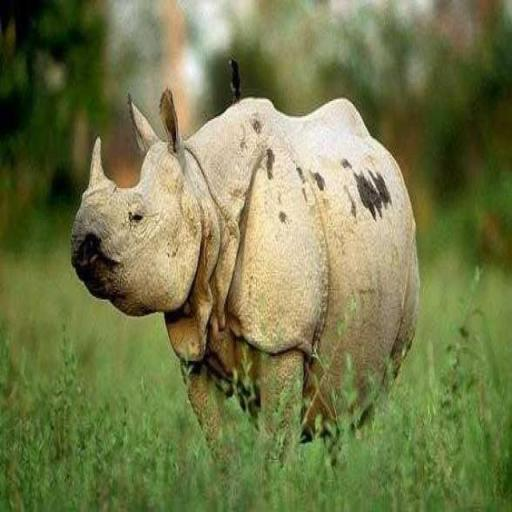Rhino: (70, 68, 420, 472)
